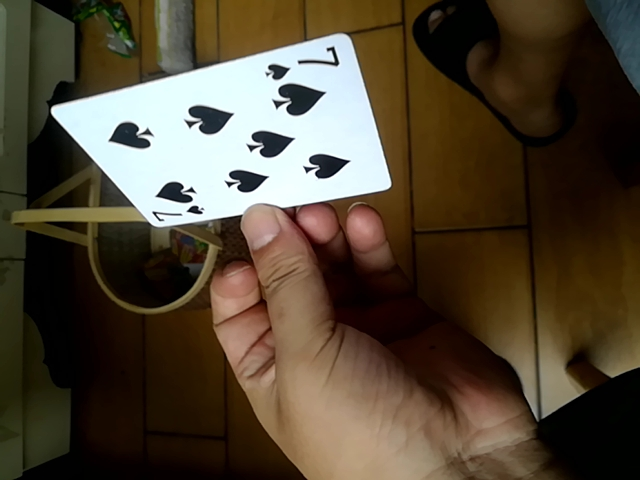ht 7: (51, 39, 397, 228)
